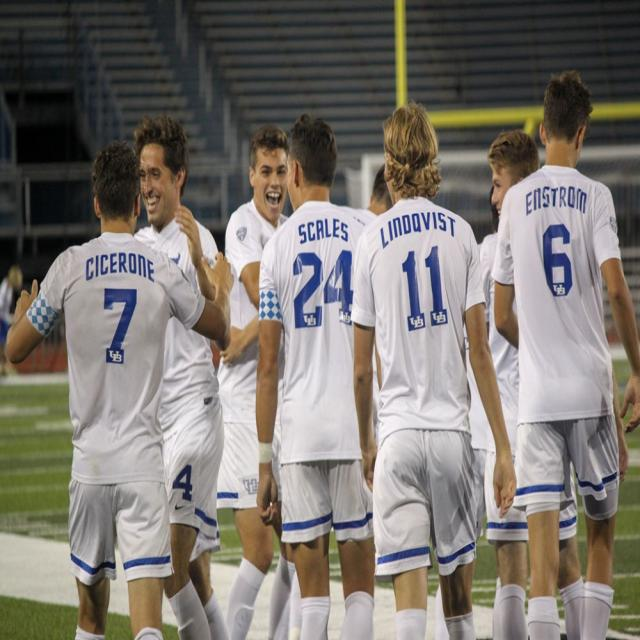body: (2, 136, 234, 639), (352, 99, 518, 639), (492, 70, 640, 639), (254, 112, 390, 639), (129, 112, 233, 640), (214, 127, 299, 639), (485, 128, 543, 228), (352, 162, 393, 228), (1, 250, 39, 320), (474, 182, 499, 262)
